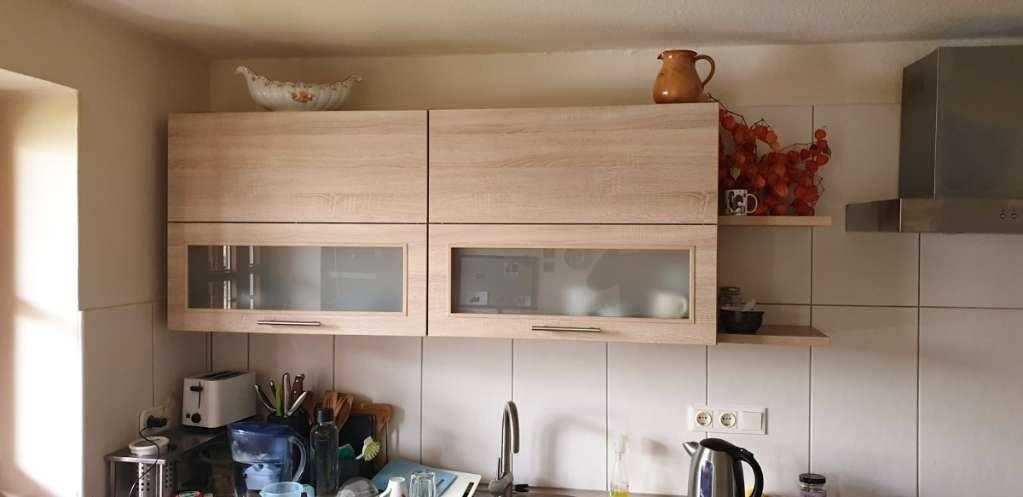cabinet_door: (427, 107, 716, 223), (427, 226, 714, 340), (164, 110, 424, 222), (166, 227, 422, 334)
handle: (254, 313, 324, 331), (528, 321, 605, 337)
